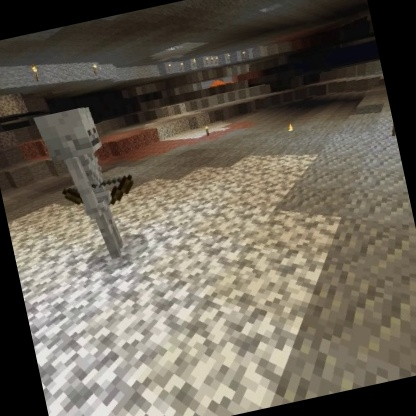skeleton: (28, 95, 152, 273)
